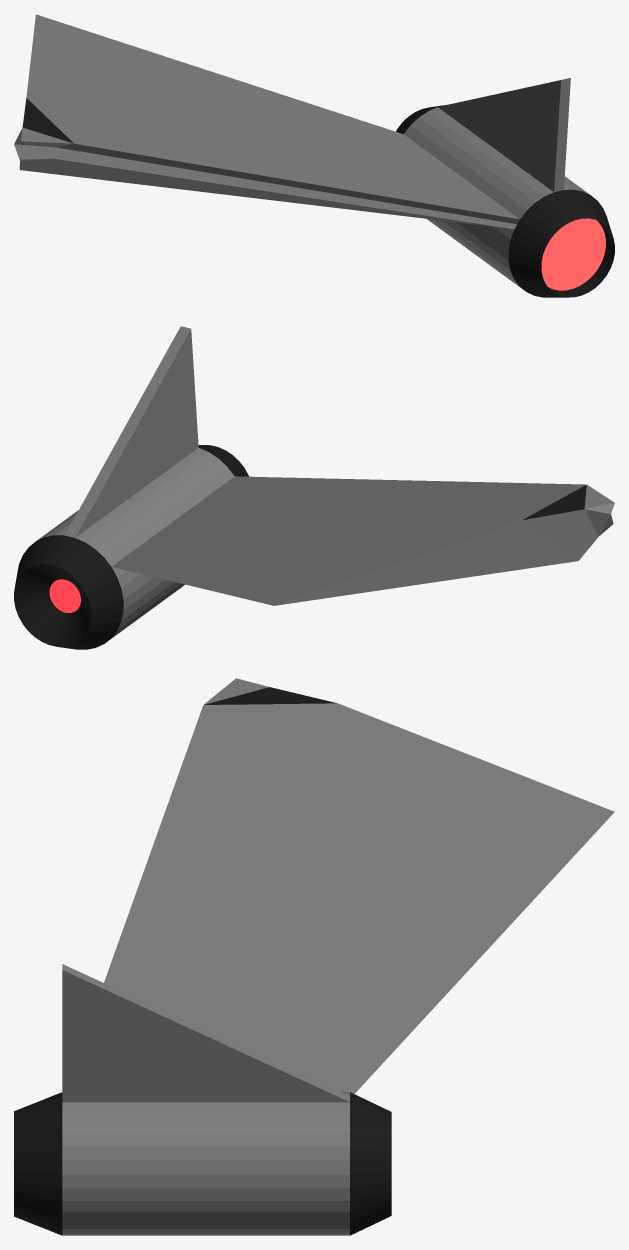
Rendered from BrokenShip-1.fbx.
The picture shows the model from 3 angles, top to bottom: view 1: azimuth 30°, elevation 25°; view 2: azimuth 150°, elevation 25°; view 3: azimuth 270°, elevation 25°; orthographic projection. The views are drawn at different scales.
Visible parts, largest first — view 1: Cylinder.001; view 2: Cylinder.001; view 3: Cylinder.001.
Boxes of the visible parts, bbox=[...] form: Cylinder.001: bbox=[14, 14, 614, 297]; Cylinder.001: bbox=[14, 326, 614, 649]; Cylinder.001: bbox=[14, 678, 614, 1235].
Bounding box in the file's own units: 5152 × 2083 × 4178.
